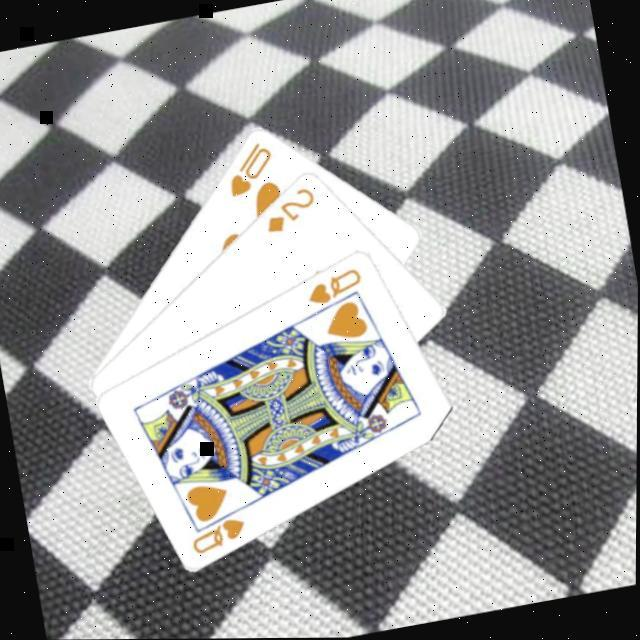10H: (218, 135, 279, 199)
2D: (256, 181, 321, 236)
QH: (183, 500, 254, 556), (300, 262, 366, 308)
